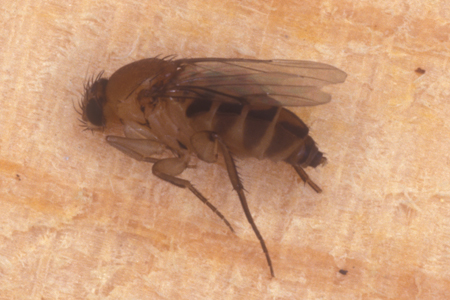phorid fly: (66, 36, 378, 284)
